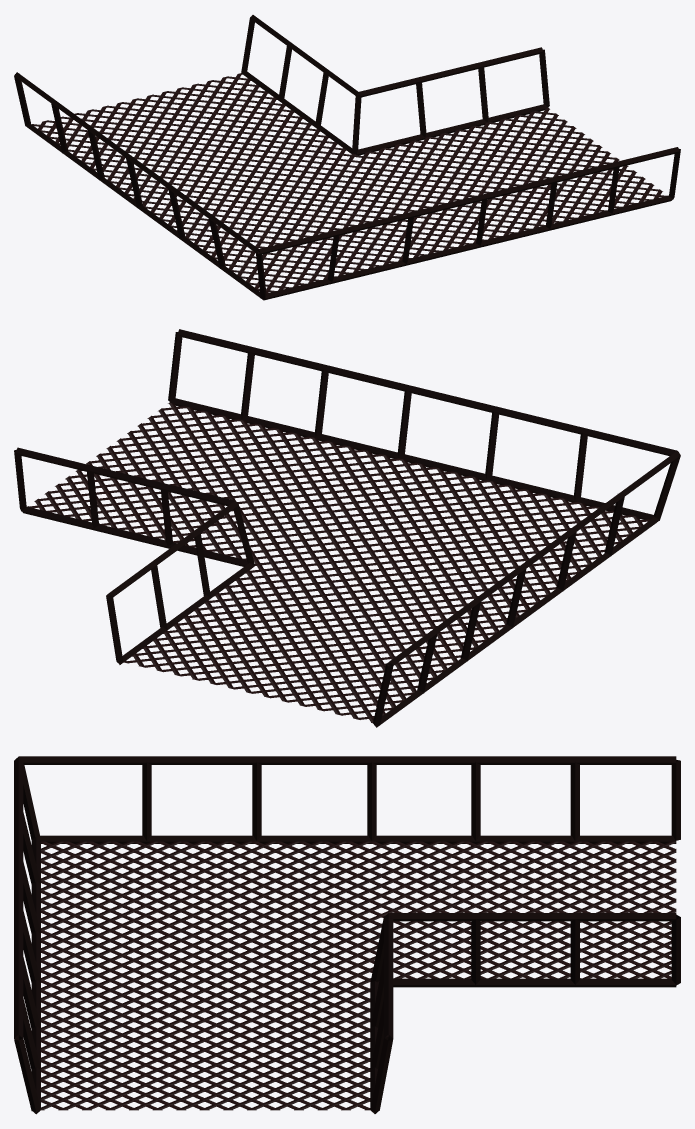
File: Platform_L.fbx
3 views of the same model, one above another, from view 1: azimuth 30°, elevation 25°; view 2: azimuth 150°, elevation 25°; view 3: azimuth 270°, elevation 25° (orthographic). The views are drawn at different scales.
Visible parts, largest first — view 1: Plat_L, Plat_L_Railing1, Plat_L_Railing2; view 2: Plat_L, Plat_L_Railing1, Plat_L_Railing2; view 3: Plat_L, Plat_L_Railing1, Plat_L_Railing2.
Part boxes in pixels (x1,y1,x2,y2): Plat_L: (32,73,666,293); Plat_L_Railing1: (14,72,680,300); Plat_L_Railing2: (241,15,549,155); Plat_L: (28,402,649,723); Plat_L_Railing1: (168,329,680,727); Plat_L_Railing2: (14,447,254,664); Plat_L: (40,841,676,1110); Plat_L_Railing1: (14,756,680,1114); Plat_L_Railing2: (370,913,680,1113).
Size of the model in its own units: 106 by 14.08 by 106.
Materials: 2 (1 with a texture image).
